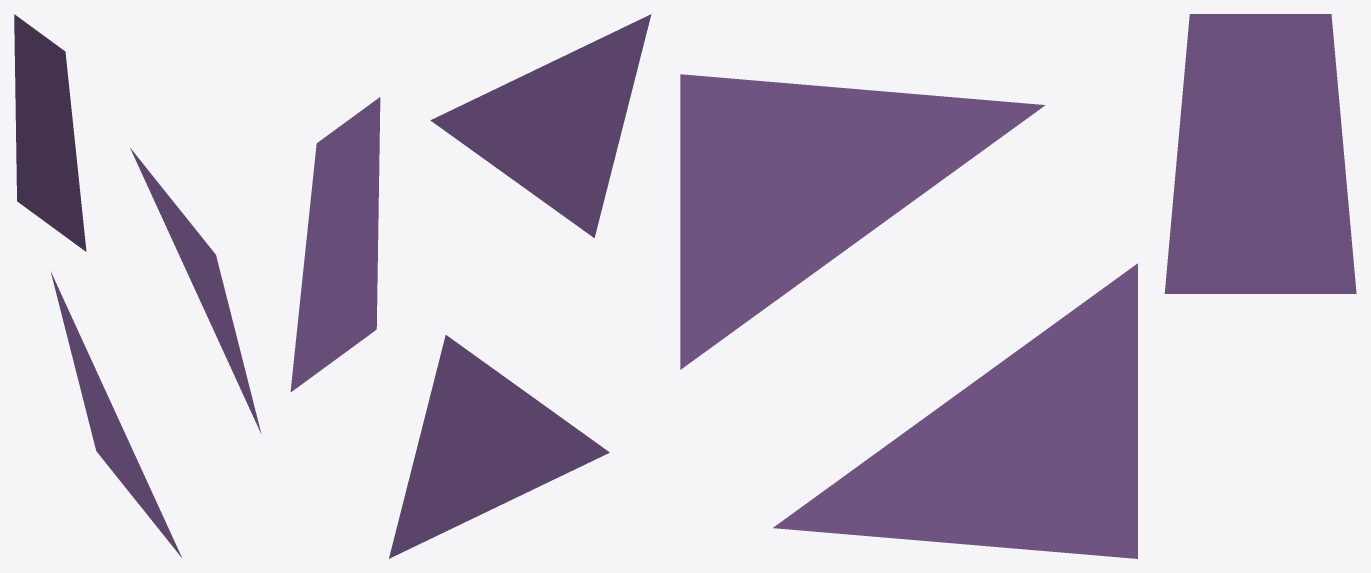
Rendered from shatter.glb.
The picture shows the model from 3 angles, left to right: view 1: azimuth 30°, elevation 25°; view 2: azimuth 150°, elevation 25°; view 3: azimuth 270°, elevation 25°; orthographic projection. The views are drawn at different scales.
Parts seen in each view (by area): view 1: Cube.001; view 2: Cube.001; view 3: Cube.001.
Part boxes in pixels (left/top/right/bottom): Cube.001: left=14, top=14, right=261, bottom=557; Cube.001: left=290, top=14, right=651, bottom=558; Cube.001: left=680, top=14, right=1356, bottom=558.
Size of the model in its own units: 0.3498 by 2.84 by 3.24.
Materials: 3 (3 with a texture image).
